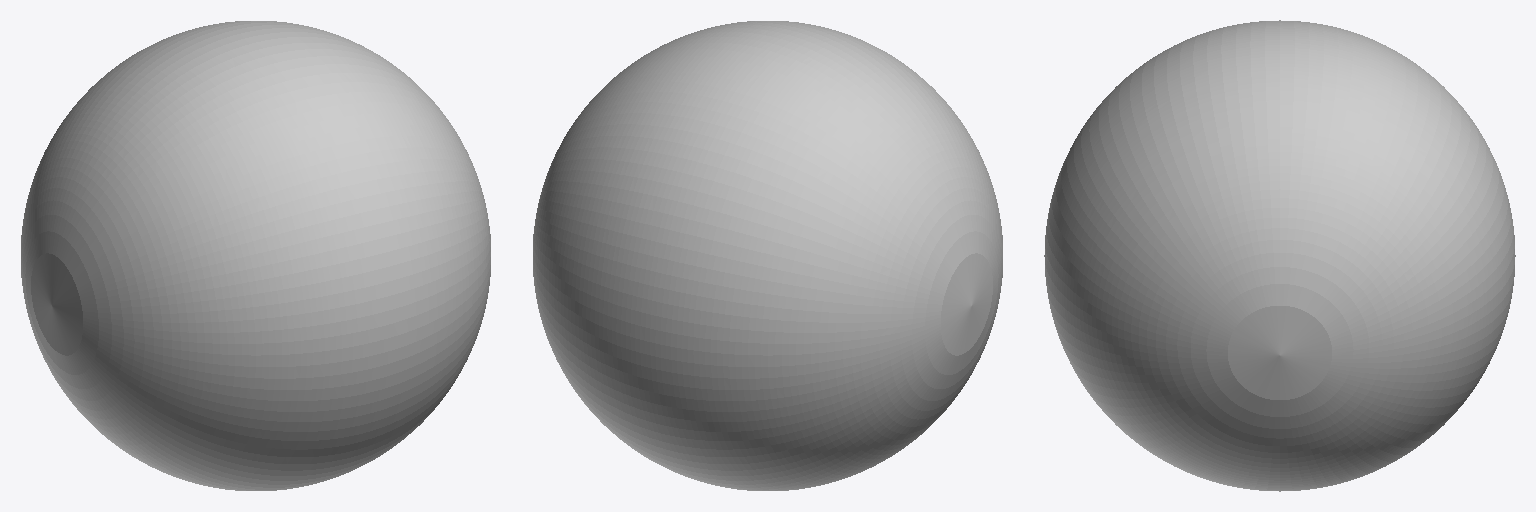
File: starblast-1540805483529.obj
3 renders of one model, left to right at view 1: azimuth 30°, elevation 25°; view 2: azimuth 150°, elevation 25°; view 3: azimuth 270°, elevation 25°, orthographic.
Size of the model in its own units: 0.8 by 0.8 by 0.8.